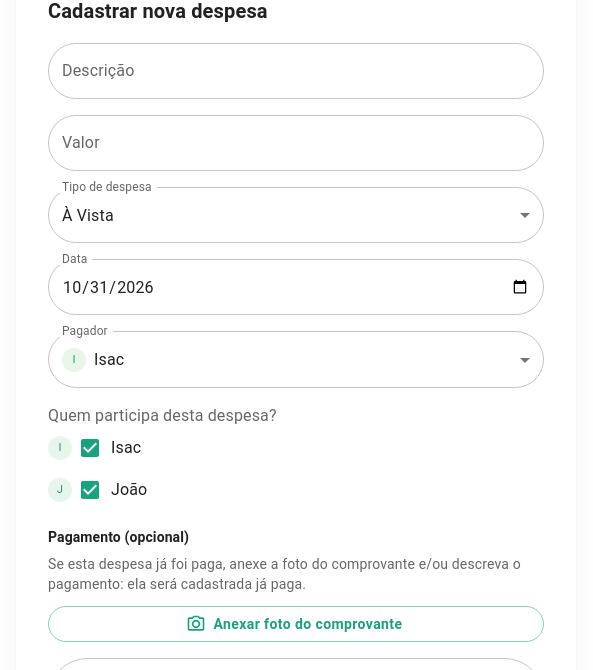
ExpenseForm › surfaces the backend error message in an in-app alert (never window.alert) when the API rejects
Expected: the checkbox labelled "João" is shown, [78,478,147,502]
Type "Adestrador" into the field labelled "Descrição". click: (296, 71)
box: [48,43,544,99]
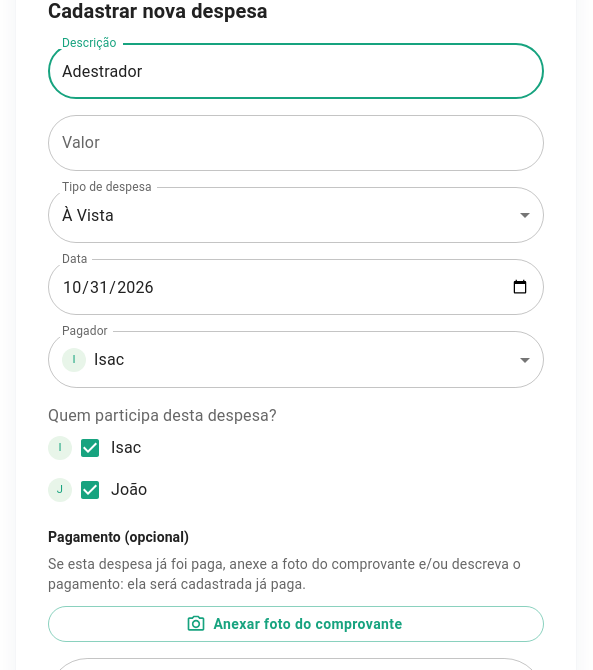
Type "1754,40" into the field labelled "Valor". click: (296, 143)
box: [48,115,544,171]
(page scrolled)
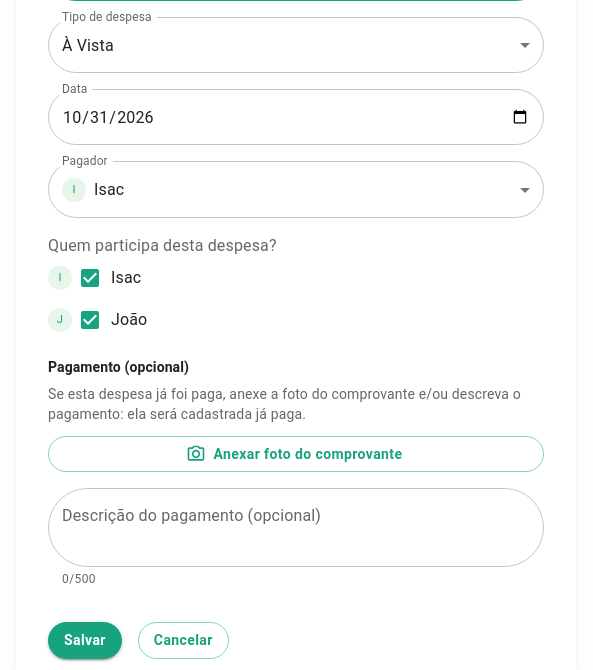
Click the button "Salvar". click: (85, 641)
box: [48,622,122,659]
(page scrolled)
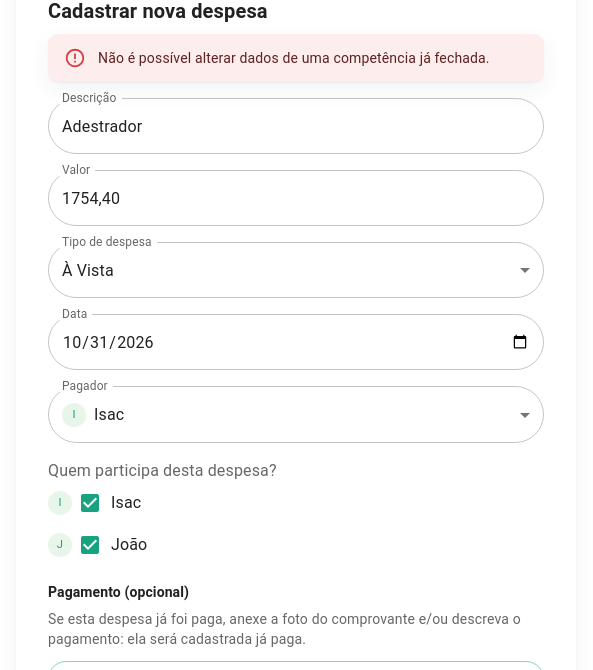
Expected: the message reads "Não é possível alterar dados de uma competência já fechada.", [98,50,490,66]
